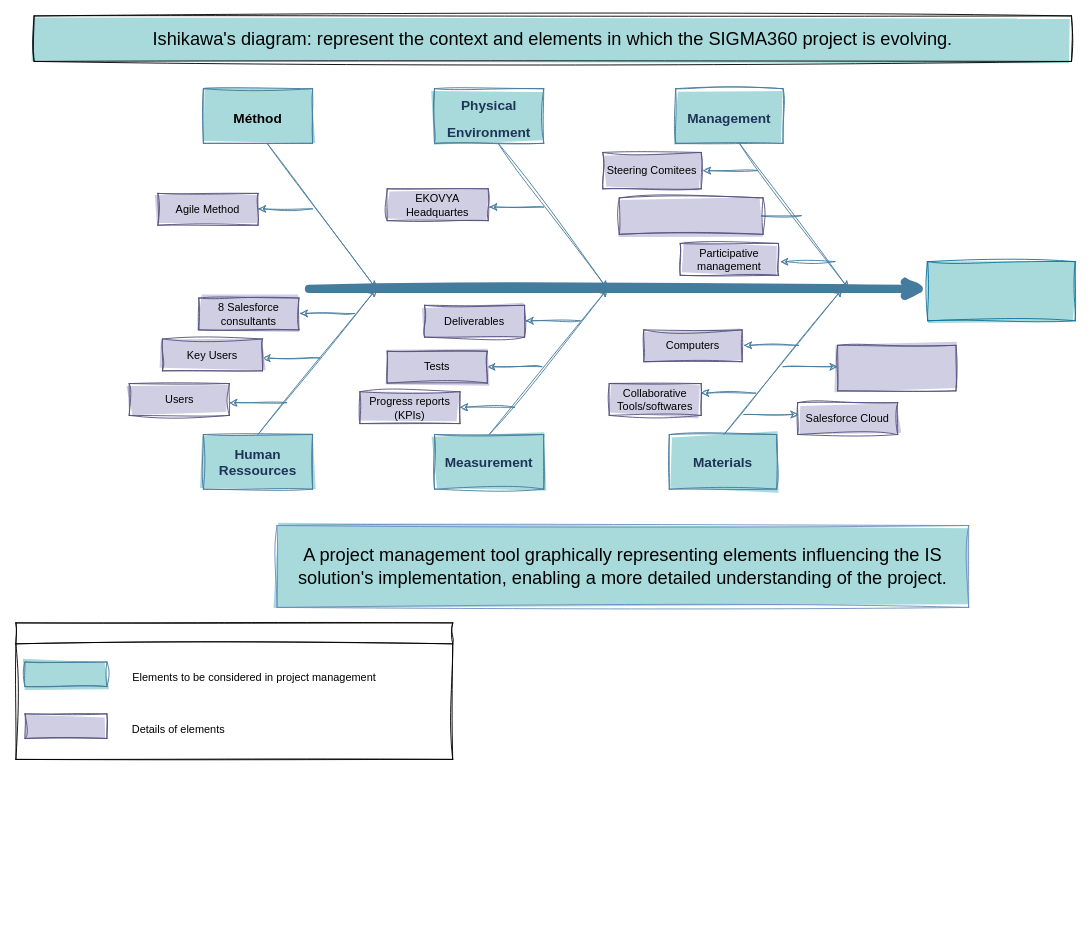
Image size: 1091x940. Some labels were removed from this diagram. Each missing label, with the box of its shape:
EKOVYA's Information System & Servers: (837, 344, 956, 391)
Legend: (15, 622, 453, 759)
PMO Project Management Officer: (618, 197, 763, 234)
SIGMA360 EKOVYA's Salesforce Project: (927, 261, 1075, 321)
